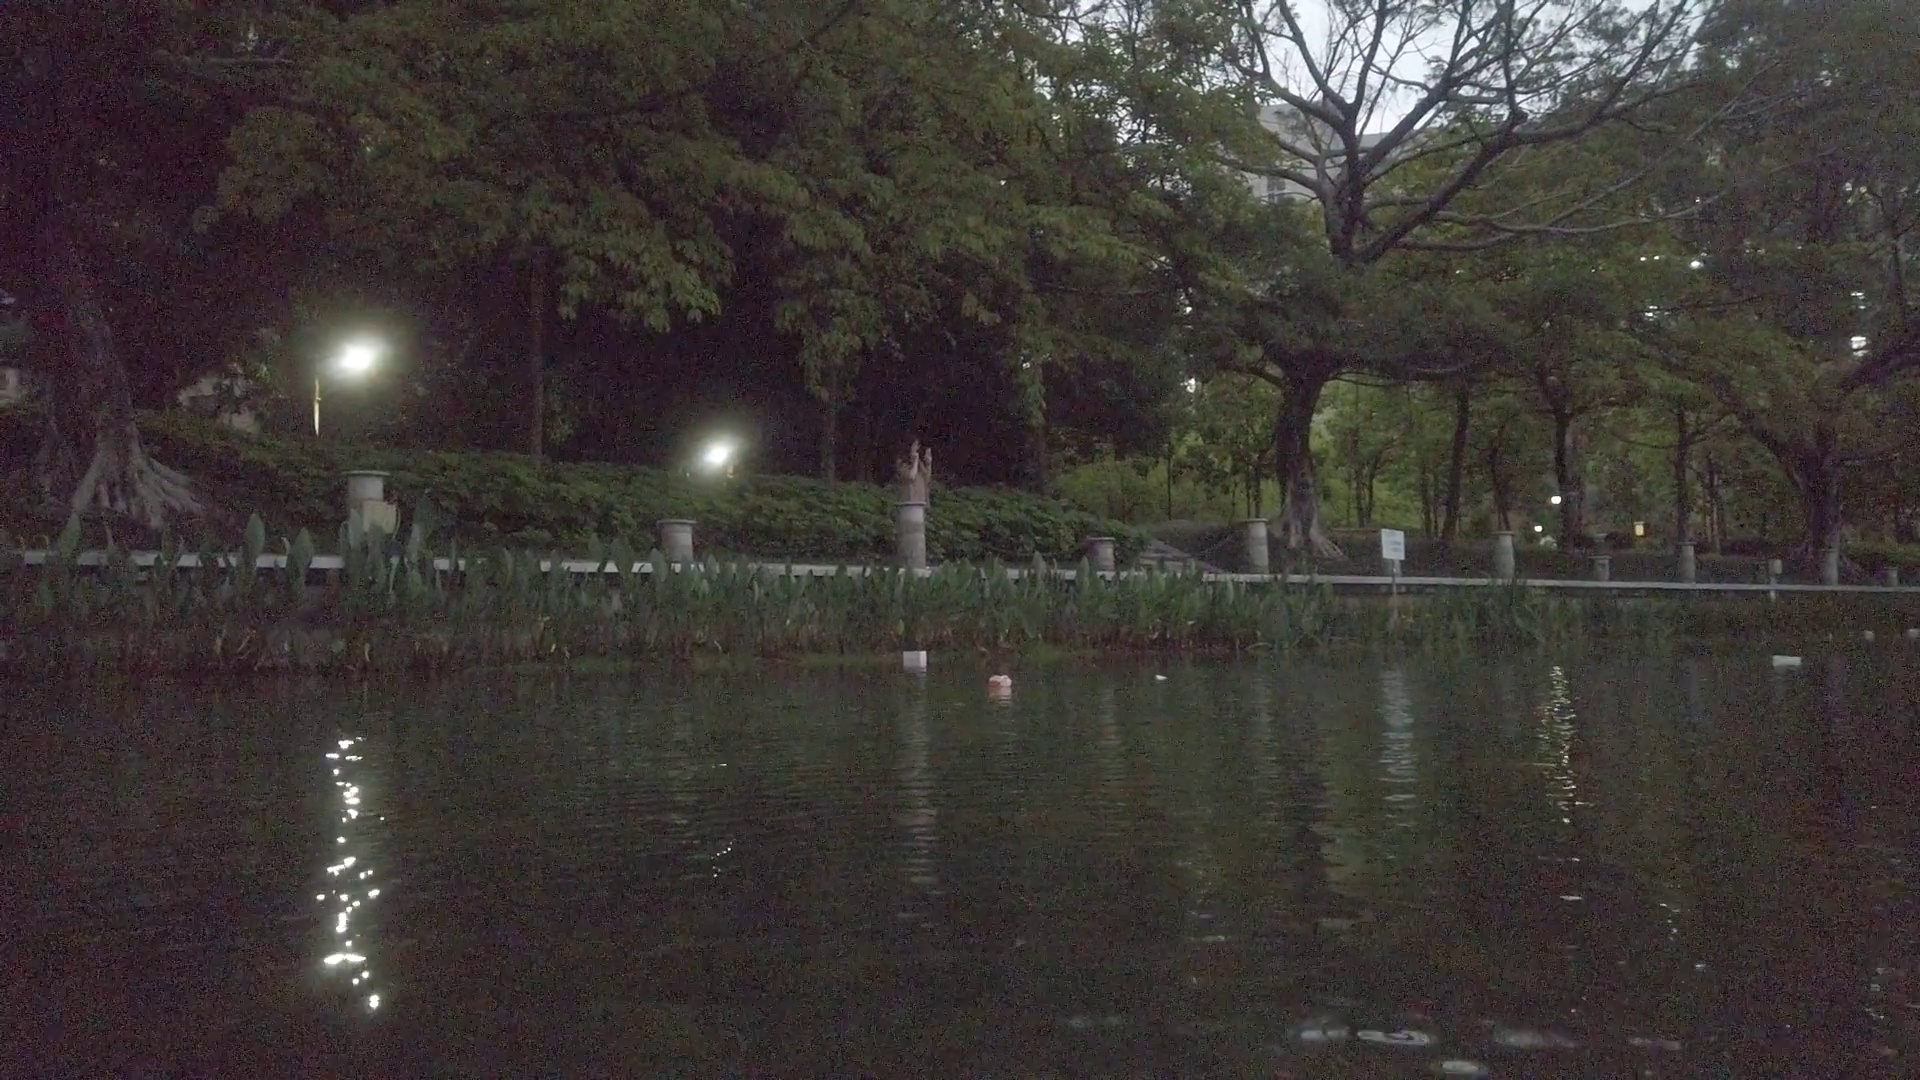bottle: (986, 675, 1011, 688)
carton: (1774, 653, 1805, 667), (902, 651, 928, 665)
